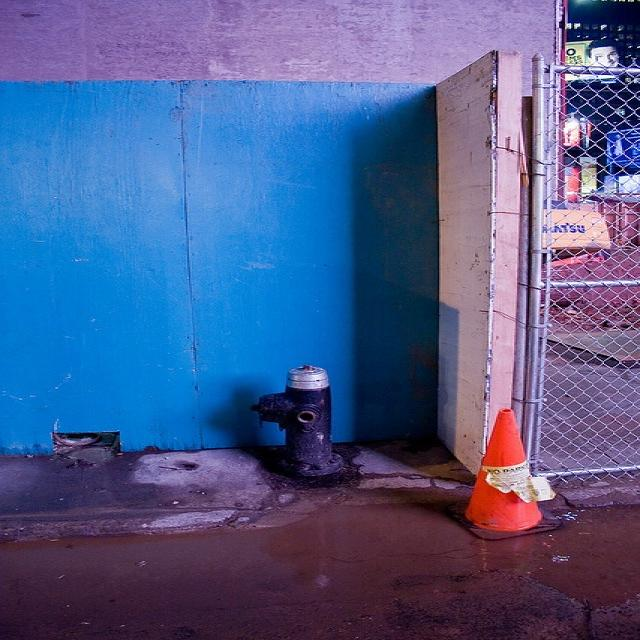fire_hydrant: (250, 364, 346, 478)
reflective_cone: (459, 408, 562, 537)
